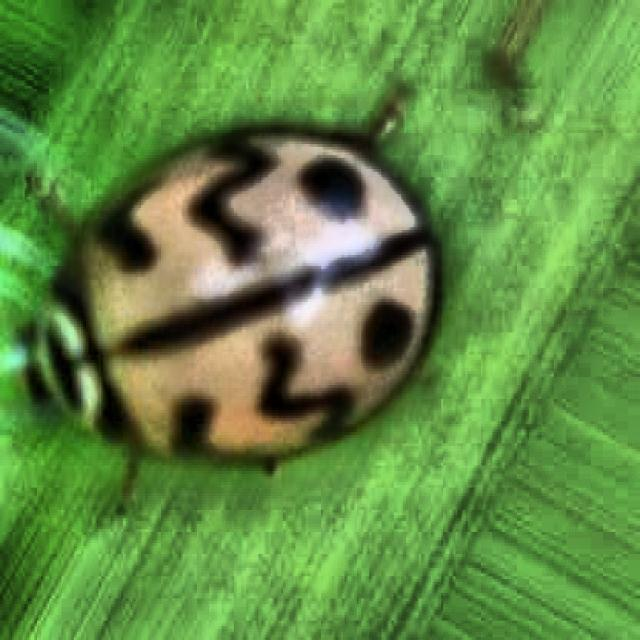Asian-Lady-beetle: (17, 55, 518, 564)
